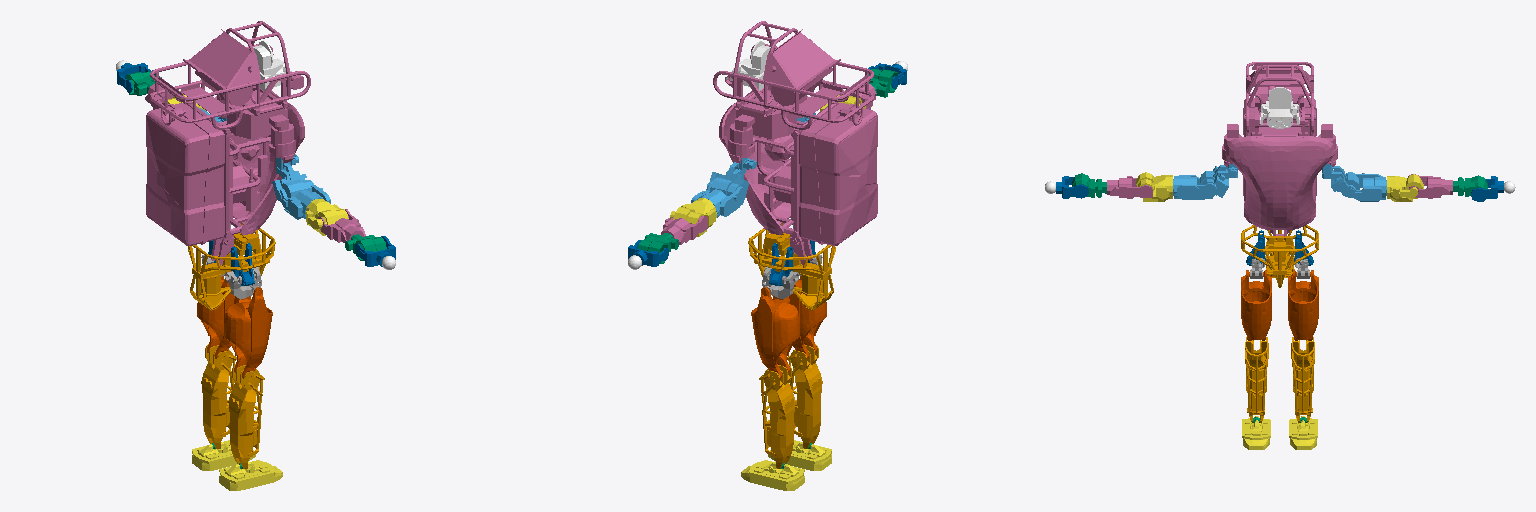
--- Render facts (derived) ---
3 views of the same robot in one strip: view 1: azimuth 30°, elevation 25°; view 2: azimuth 150°, elevation 25°; view 3: azimuth 270°, elevation 25° (orthographic).
Robot: multisense_sl — 31 links, 30 joints (30 revolute); root link pelvis; default pose: every joint at zero.
Links seen in each view (by area): view 1: utorso, pelvis, r_uleg, r_lleg, l_lleg, r_foot, l_uleg, r_scap, l_foot, r_uarm, r_clav, head (+4 smaller); view 2: utorso, pelvis, l_uleg, l_lleg, r_lleg, l_foot, r_uleg, r_foot, l_scap, l_clav, head, l_uarm (+4 smaller); view 3: utorso, pelvis, l_uleg, r_uleg, l_lleg, r_lleg, head, l_scap, r_scap, l_foot, r_foot, l_uarm (+5 smaller).
Boxes of the visible links, x1=… form: utorso: x1=146, y1=21, x2=310, y2=245; pelvis: x1=188, y1=223, x2=275, y2=310; r_uleg: x1=224, y1=287, x2=272, y2=378; r_lleg: x1=228, y1=364, x2=264, y2=468; l_lleg: x1=201, y1=344, x2=236, y2=448; r_foot: x1=219, y1=460, x2=282, y2=490; l_uleg: x1=197, y1=276, x2=234, y2=358; r_scap: x1=272, y1=180, x2=330, y2=219; l_foot: x1=192, y1=440, x2=255, y2=470; r_uarm: x1=305, y1=199, x2=348, y2=235; r_clav: x1=276, y1=154, x2=311, y2=197; head: x1=253, y1=40, x2=291, y2=90; utorso: x1=713, y1=21, x2=877, y2=245; pelvis: x1=748, y1=223, x2=835, y2=310; l_uleg: x1=751, y1=287, x2=799, y2=378; l_lleg: x1=759, y1=364, x2=795, y2=468; r_lleg: x1=787, y1=344, x2=822, y2=448; l_foot: x1=741, y1=460, x2=804, y2=490; r_uleg: x1=789, y1=276, x2=826, y2=358; r_foot: x1=768, y1=440, x2=831, y2=470; l_scap: x1=691, y1=172, x2=745, y2=217; l_clav: x1=710, y1=158, x2=756, y2=197; head: x1=726, y1=41, x2=770, y2=90; l_uarm: x1=670, y1=198, x2=716, y2=236; utorso: x1=1222, y1=62, x2=1337, y2=229; pelvis: x1=1241, y1=225, x2=1318, y2=287; l_uleg: x1=1288, y1=270, x2=1318, y2=340; r_uleg: x1=1241, y1=270, x2=1271, y2=340; l_lleg: x1=1291, y1=337, x2=1314, y2=422; r_lleg: x1=1245, y1=337, x2=1268, y2=422; head: x1=1260, y1=87, x2=1299, y2=128; l_scap: x1=1339, y1=172, x2=1386, y2=201; r_scap: x1=1173, y1=166, x2=1217, y2=199; l_foot: x1=1289, y1=416, x2=1317, y2=449; r_foot: x1=1242, y1=416, x2=1270, y2=449; l_uarm: x1=1387, y1=174, x2=1423, y2=201.
Bounding box of the posed robot: 0.6238 × 2.26 × 1.98 m (x, y, z).
29 mesh visuals loaded from 23 distinct referenced files (23 OBJ).

URDF robot description (multisense_sl):
<?xml version="1.0"?>
<robot name="multisense_sl">

<!-- head from multisense_sl_v4.urdf -->

  <link name="head">
    <inertial>
      <origin xyz="-0.075493 3.3383E-05 0.02774" rpy="0 0 0" />
      <mass value="1.41984" />
      <inertia iyy="0.0041178" ixy="-1.5797E-06" iyz="-6.8415E-07" ixx="0.0039688" ixz="-0.00089293" izz="0.0035243" />
    </inertial>
    <visual>
      <origin xyz="0 0 0" rpy="0 0 0" />
      <geometry>
        <mesh filename="multisense_sl_description/meshes/head.obj" />
      </geometry>
      <material name="">
        <color rgba="1 1 1 1" />
      </material>
    </visual>
  <collision>
    <origin xyz="-0.0503 0 -0.00195" rpy="0 0 0" />
    <geometry>
      <box size="0.1311 0.12 0.0591"/>
    </geometry>
  </collision>
  <collision>
    <origin xyz="-0.093 0 0.0868" rpy="0 0 0" />
    <geometry>
      <box size="0.0468 0.12 0.1184"/>
    </geometry>
  </collision>
  </link>



<!-- from atlas_v4_simple_shapes.urdf -->

  <link name="l_clav">
    <inertial>
      <mass value="4.466"/>
      <origin rpy="0 -0 0" xyz="0 -0.048 -0.084"/>
      <inertia ixx="0.011" ixy="0" ixz="0" iyy="0.009" iyz="0.004" izz="0.004"/>
    </inertial>
    <visual>
      <geometry>
        <mesh filename="meshes_unplugged/r_clav.obj" scale="1 1 1"/>
      </geometry>
    </visual>
    <collision>
      <origin rpy="0 1.5707963267949 0" xyz="0 -0.11 -0.248"/>
      <geometry>
        <cylinder length="0.1525" radius="0.0555"/>
      </geometry>
    </collision>
    <collision>
      <origin rpy="0 0 0" xyz="0.005 -0.015 -0.08"/>
      <geometry>
        <cylinder length="0.26" radius="0.067"/>
      </geometry>
    </collision>
    <collision>
      <origin rpy="1.05 0 0" xyz="0.004 -0.064 -0.247"/>
      <geometry>
        <box size="0.1 0.07 0.072"/>
      </geometry>
    </collision>
  </link>
  <link name="l_ufarm">
    <inertial>
      <mass value="4.386"/>
      <origin rpy="0 -0 0" xyz="0 0.065 0"/>
      <inertia ixx="0.00656" ixy="0" ixz="0" iyy="0.00358" iyz="0" izz="0.00656"/>
    </inertial>
    <visual>
      <geometry>
        <mesh filename="meshes_v3/r_farm.obj" scale="1 1 1"/>
      </geometry>
    </visual>
    <collision>
      <origin rpy="0 1.5708 0" xyz="0.0 -0.13 0.004"/>
      <geometry>
        <cylinder length="0.125" radius="0.045"/>
      </geometry>
    </collision>
    <collision>
      <origin rpy="0 0 0" xyz="0.001 -0.053 -0.002"/>
      <geometry>
        <box size="0.135 0.1 0.045"/>
      </geometry>
    </collision>
  </link>
  <link name="l_foot">
    <inertial>
      <mass value="2.41"/>
      <origin rpy="0 -0 0" xyz="0.027 0 -0.067"/>
      <inertia ixx="0.002" ixy="0" ixz="0" iyy="0.007" iyz="0" izz="0.008"/>
    </inertial>
    <visual>
      <geometry>
        <mesh filename="meshes_unplugged/l_foot.obj" scale="1 1 1"/>
      </geometry>
    </visual>
    <collision>
      <origin rpy="0 0 0" xyz="0.023 0 -0.049119"/>
      <geometry>
        <box size="0.227 0.133887 0.05"/>
      </geometry>
    </collision>
    <collision>
      <origin rpy="0 0 0" xyz="0.1225 0 -0.0641"/>
      <geometry>
        <box size="0.1 0.08 0.02"/>
      </geometry>
    </collision>
  </link>
  <link name="l_lfarm">
    <inertial>
      <mass value="2.509"/>
      <origin rpy="0 -0 0" xyz="0 0 0"/>
      <inertia ixx="0.00265" ixy="0" ixz="0" iyy="0.00446" iyz="0" izz="0.00446"/>
    </inertial>
    <visual>
      <geometry>
        <mesh filename="meshes_v3/r_hand.obj" scale="1 1 1"/>
      </geometry>
      <origin rpy="0 3.14159265359 0" xyz="0 0 0"/>
    </visual>
    <collision>
      <origin rpy="1.5707963267949 0 0" xyz="0.001 -0.1 -0.01"/>
      <geometry>
        <cylinder length="0.05" radius="0.03"/>
      </geometry>
    </collision>
    <collision>
      <origin rpy="0 0 0" xyz="0.001 -0.05 -0.01"/>
      <geometry>
        <box size="0.13 0.09 0.07"/>
      </geometry>
    </collision>
  </link>
  <link name="l_hand">
    <inertial>
      <mass value="1.0"/><!-- some mass required here for simulation stability -->
      <origin rpy="0 0 0" xyz="0 0 0"/>
      <inertia ixx="0.0001" ixy="0" ixz="0" iyy="0.0001" iyz="0" izz="0.0001"/>
    </inertial>
    <visual>
      <origin rpy="0 0 0" xyz="0 -0.15 0.01"/>
      <geometry>
        <sphere radius="0.03"/>
      </geometry>
      <material name="dark">
        <color rgba="1 1 1 1" />
      </material>
    </visual>
    <collision>
      <origin rpy="0 0 0" xyz="0 -0.15 0.01"/>
      <geometry>
        <sphere radius="0.03"/>
      </geometry>
    </collision>
  </link>
  <link name="l_larm">
    <inertial>
      <mass value="3.248"/>
      <origin rpy="0 -0 0" xyz="0 0 0"/>
      <inertia ixx="0.00265" ixy="0" ixz="0" iyy="0.00446" iyz="0" izz="0.00446"/>
    </inertial>
    <visual>
      <geometry>
        <mesh filename="meshes_v3/r_larm.obj" scale="1 1 1"/>
      </geometry>
    </visual>
    <collision>
      <origin rpy="1.5707963267949 0 0" xyz="0.001 -0.127 0.00"/>
      <geometry>
        <cylinder length="0.125" radius="0.045"/>
      </geometry>
    </collision>
    <collision>
      <origin rpy="0 0 0" xyz="0.001 -0.051 0.0"/>
      <geometry>
        <box size="0.135 0.15 0.06"/>
      </geometry>
    </collision>
  </link>
  <link name="l_lglut">
    <inertial>
      <mass value="0.898"/>
      <origin rpy="0 -0 0" xyz="0.0133341 0.0170484 -0.0312052"/>
      <inertia ixx="0.000691326" ixy="-2.24344e-05" ixz="2.50508e-06" iyy="0.00126856" iyz="0.000137862" izz="0.00106487"/>
    </inertial>
    <visual>
      <geometry>
        <mesh filename="meshes_unplugged/l_lglut.obj" scale="1 1 1"/>
      </geometry>
    </visual>
    <collision>
      <origin rpy="0 0 0" xyz="0.015 0.026 -0.028"/>
      <geometry>
        <box size="0.125 0.05 0.08"/>
      </geometry>
    </collision>
    <collision>
      <origin rpy="1.5707963267949 0 0" xyz="0.05 0.027488 -0.067"/>
      <geometry>
        <cylinder length="0.060306" radius="0.02009687"/>
      </geometry>
    </collision>
    <collision>
      <origin rpy="0 1.5707963267949 0" xyz="0.0115 0 0"/>
      <geometry>
        <cylinder length="0.144" radius="0.02"/>
      </geometry>
    </collision>
  </link>
  <link name="l_lleg">
    <inertial>
      <mass value="4.515"/>
      <origin rpy="0 -0 0" xyz="0.001 0 -0.187"/>
      <inertia ixx="0.077" ixy="0" ixz="-0.003" iyy="0.076" iyz="0" izz="0.01"/>
    </inertial>
    <visual>
      <geometry>
        <mesh filename="meshes_unplugged/l_lleg.obj" scale="1 1 1"/>
      </geometry>
    </visual>
    <collision>
      <origin rpy="0 0.10 0" xyz="0.02 0.00295 -0.182"/>
      <geometry>
        <cylinder length="0.40" radius="0.07"/>
      </geometry>
    </collision>
  </link>
  <link name="l_scap">
    <inertial>
      <mass value="3.899"/>
      <origin rpy="0 -0 0" xyz="0 0 0"/>
      <inertia ixx="0.00319" ixy="0" ixz="0" iyy="0.00583" iyz="0" izz="0.00583"/>
    </inertial>
    <visual>
      <geometry>
        <mesh filename="meshes_unplugged/r_scap.obj" scale="1 1 1"/>
      </geometry>
    </visual>
    <collision>
      <origin rpy="1.5707963267949 0 0" xyz="-0.005 -0.115 -0.014"/>
      <geometry>
        <cylinder length="0.105" radius="0.057"/>
      </geometry>
    </collision>
    <collision>
      <origin rpy="0 0 0" xyz="-0.005 -0.075 -0.015"/>
      <geometry>
        <box size="0.16 0.17 0.08"/>
      </geometry>
    </collision>
    <collision>
      <origin rpy="2.25 0 0" xyz="0.076 -0.0615 0.0128"/>
      <geometry>
        <box size="0.02 0.029 0.018"/>
      </geometry>
    </collision>
    <collision>
      <origin rpy="1 0 0" xyz="-0.075 0.015 0.019"/>
      <geometry>
        <box size="0.028 0.090 0.05"/>
      </geometry>
    </collision>
  </link>
  <link name="l_talus">
    <inertial>
      <mass value="0.125"/>
      <origin rpy="0 -0 0" xyz="0 0 0"/>
      <inertia ixx="1.01674e-05" ixy="0" ixz="0" iyy="8.42775e-06" iyz="0" izz="1.30101e-05"/>
    </inertial>
    <visual>
      <geometry>
        <mesh filename="meshes_unplugged/l_talus.obj" scale="1 1 1"/>
      </geometry>
    </visual>
    <collision>
      <origin rpy="0 1.5707963267949 0" xyz="0 0 0"/>
      <geometry>
        <cylinder length="0.029542" radius="0.010181"/>
      </geometry>
    </collision>
    <collision>
      <origin rpy="1.5707963267949 0 0" xyz="0 0 0"/>
      <geometry>
        <cylinder length="0.010059" radius="0.010348"/>
      </geometry>
    </collision>
  </link>
  <link name="l_uarm">
    <inertial>
      <mass value="4.386"/>
      <origin rpy="0 -0 0" xyz="0 0.065 0"/>
      <inertia ixx="0.00656" ixy="0" ixz="0" iyy="0.00358" iyz="0" izz="0.00656"/>
    </inertial>
    <visual>
      <geometry>
        <mesh filename="meshes_unplugged/r_uarm.obj" scale="1 1 1"/>
      </geometry>
    </visual>
    <collision>
      <origin rpy="1.5708 0 0" xyz="0.0 -0.035 0.00"/>
      <geometry>
        <cylinder length="0.11" radius="0.065"/>
      </geometry>
    </collision>
    <collision>
      <origin rpy="0 1.5708 0" xyz="-0.005 -0.111 0.017"/>
      <geometry>
        <cylinder length="0.142" radius="0.047"/>
      </geometry>
    </collision>
    <collision>
      <origin rpy="0 1.5707963267949 0" xyz="-0.001 -0.043 0.01"/>
      <geometry>
        <box size="0.05 0.07 0.15"/>
      </geometry>
    </collision>
  </link>
  <link name="l_uglut">
    <inertial>
      <mass value="1.959"/>
      <origin rpy="0 -0 0" xyz="0.00529262 -0.00344732 0.00313046"/>
      <inertia ixx="0.00074276" ixy="-3.79607e-08" ixz="-2.79549e-05" iyy="0.000688179" iyz="-3.2735e-08" izz="0.00041242"/>
    </inertial>
    <visual>
      <geometry>
        <mesh filename="meshes_unplugged/l_uglut.obj" scale="1 1 1"/>
      </geometry>
    </visual>
    <collision>
      <origin rpy="0.52539 0 0" xyz="0.01 0.005 0"/>
      <geometry>
        <box size="0.05 0.1 0.1"/>
      </geometry>
    </collision>
    <collision>
      <origin rpy="0 0 0" xyz="0 0 0"/>
      <geometry>
        <cylinder length="0.080842" radius="0.019841"/>
      </geometry>
    </collision>
  </link>
  <link name="l_uleg">
    <inertial>
      <mass value="8.204"/>
      <origin rpy="0 -0 0" xyz="0 0 -0.21"/>
      <inertia ixx="0.09" ixy="0" ixz="0" iyy="0.09" iyz="0" izz="0.02"/>
    </inertial>
    <visual>
      <geometry>
        <mesh filename="meshes_unplugged/l_uleg.obj" scale="1 1 1"/>
      </geometry>
    </visual>
    <collision>
      <origin rpy="0 0 0" xyz="-0.0199 0.00585 -0.122"/>
      <geometry>
        <cylinder length="0.15" radius="0.09"/>
      </geometry>
    </collision>
    <collision>
      <origin rpy="0 -0.3 0" xyz="-0.032 -0.005 -0.224"/>
      <geometry>
        <cylinder length="0.15" radius="0.07"/>
      </geometry>
    </collision>
    <!-- to cover the logo shield -->
    <collision>
      <origin rpy="-0.15 0.13 0" xyz="0.003 0.015 -0.254"/>
      <geometry>
        <cylinder length="0.15" radius="0.05"/>
      </geometry>
    </collision>
    <!-- inside strut -->
    <collision>
      <origin rpy="0.0 0.0 0" xyz="-0.007 -0.053 -0.052"/>
      <geometry>
        <box size="0.07 0.038 0.15"/>
      </geometry>
    </collision>
    <!-- outside strut -->
    <collision>
      <origin rpy="0.0 0.0 0" xyz="-0.017 0.0595 -0.049"/>
      <geometry>
        <box size="0.07 0.038 0.14"/>
      </geometry>
    </collision>
  </link>
  <link name="ltorso">
    <inertial>
      <mass value="2.270"/>
      <origin rpy="0 -0 0" xyz="-0.0112984 -3.15366e-06 0.0746835"/>
      <inertia ixx="0.0039092" ixy="-5.04491e-08" ixz="-0.000342157" iyy="0.00341694" iyz="4.87119e-07" izz="0.00174492"/>
    </inertial>
    <visual>
      <geometry>
        <mesh filename="meshes_unplugged/ltorso.obj" scale="1 1 1"/>
      </geometry>
    </visual>
    <!-- this produces unwanted self-collision -->
    <!--collision>
      <origin rpy="0 0 0" xyz="0 0 0"/>
      <geometry>
        <sphere radius="0.11"/>
      </geometry>
    </collision-->
  </link>
  <link name="mtorso">
    <inertial>
      <mass value="0.799"/>
      <origin rpy="0 -0 0" xyz="-0.00816266 -0.0131245 0.0305974"/>
      <inertia ixx="0.000454181" ixy="-6.10764e-05" ixz="3.94009e-05" iyy="0.000483282" iyz="5.27463e-05" izz="0.000444215"/>
    </inertial>
    <visual>
      <geometry>
        <mesh filename="meshes_unplugged/mtorso.obj" scale="1 1 1"/>
      </geometry>
    </visual>
    <collision>
      <origin rpy="0 0 0" xyz="0.0 0 0.02"/>
      <geometry>
        <cylinder length="0.15" radius="0.02"/>
      </geometry>
    </collision>
  </link>
  <link name="pelvis">
    <inertial>
      <mass value="9.509"/>
      <origin rpy="0 -0 0" xyz="0.0111 0 0.0271"/>
      <inertia ixx="0.1244" ixy="0.0008" ixz="-0.0007" iyy="0.0958" iyz="-0.0005" izz="0.1167"/>
    </inertial>
    <visual>
      <geometry>
        <mesh filename="meshes_unplugged/pelvis.obj" scale="1 1 1"/>
      </geometry>
    </visual>
    <collision>
      <origin rpy="1.5707963267949 0 0" xyz="0.046 0.0 0.01"/>
      <geometry>
        <cylinder length="0.06" radius="0.11"/>
      </geometry>
    </collision>
    <collision>
      <origin rpy="1.5707963267949 0 0" xyz="-0.03 0.0 0.01"/>
      <geometry>
        <cylinder length="0.06" radius="0.11"/>
      </geometry>
    </collision>
    <collision>
      <origin rpy="0 0 0" xyz="0.01 0.042 0.09"/>
      <geometry>
        <cylinder length="0.05" radius="0.16"/>
      </geometry>
    </collision>
    <collision>
      <origin rpy="0 0 0" xyz="0.01 -0.042 0.09"/>
      <geometry>
        <cylinder length="0.05" radius="0.16"/>
      </geometry>
    </collision>
    <collision>
      <origin rpy="0 0 0" xyz="-0.1 0 -0.02"/>
      <geometry>
        <box size="0.1 0.15 0.2"/>
      </geometry>
    </collision>
  </link>
  <link name="r_clav">
    <inertial>
      <mass value="4.466"/>
      <origin rpy="0 -0 0" xyz="0 -0.048 -0.084"/>
      <inertia ixx="0.011" ixy="0" ixz="0" iyy="0.009" iyz="0.004" izz="0.004"/>
    </inertial>
    <visual>
      <geometry>
        <mesh filename="meshes_unplugged/r_clav.obj" scale="1 1 1"/>
      </geometry>
    </visual>
    <collision>
      <origin rpy="0 1.5707963267949 0" xyz="0 -0.11 -0.248"/>
      <geometry>
        <cylinder length="0.1525" radius="0.0555"/>
      </geometry>
    </collision>
    <collision>
      <origin rpy="0 0 0" xyz="0.005 -0.015 -0.08"/>
      <geometry>
        <cylinder length="0.26" radius="0.067"/>
      </geometry>
    </collision>
    <collision>
      <origin rpy="1.05 0 0" xyz="0.004 -0.064 -0.247"/>
      <geometry>
        <box size="0.1 0.07 0.072"/>
      </geometry>
    </collision>
  </link>
  <link name="r_ufarm">
    <inertial>
      <mass value="4.386"/>
      <origin rpy="0 -0 0" xyz="0 0.065 0"/>
      <inertia ixx="0.00656" ixy="0" ixz="0" iyy="0.00358" iyz="0" izz="0.00656"/>
    </inertial>
    <visual>
      <geometry>
        <mesh filename="meshes_v3/r_farm.obj" scale="1 1 1"/>
      </geometry>
    </visual>
    <collision>
      <origin rpy="0 1.5708 0" xyz="0.0 -0.13 0.004"/>
      <geometry>
        <cylinder length="0.125" radius="0.045"/>
      </geometry>
    </collision>
    <collision>
      <origin rpy="0 0 0" xyz="0.001 -0.053 -0.002"/>
      <geometry>
        <box size="0.135 0.1 0.045"/>
      </geometry>
    </collision>
  </link>
  <link name="r_foot">
    <inertial>
      <mass value="2.41"/>
      <origin rpy="0 -0 0" xyz="0.027 0 -0.067"/>
      <inertia ixx="0.002" ixy="0" ixz="0" iyy="0.007" iyz="0" izz="0.008"/>
    </inertial>
    <visual>
      <geometry>
        <mesh filename="meshes_unplugged/r_foot.obj" scale="1 1 1"/>
      </geometry>
    </visual>
    <collision>
      <origin rpy="0 0 0" xyz="0.023 0 -0.049119"/>
      <geometry>
        <box size="0.227 0.133887 0.05"/>
      </geometry>
    </collision>
    <collision>
      <origin rpy="0 0 0" xyz="0.1225 0 -0.0641"/>
      <geometry>
        <box size="0.1 0.08 0.02"/>
      </geometry>
    </collision>
  </link>
  <link name="r_lfarm">
    <inertial>
      <mass value="2.509"/>
      <origin rpy="0 -0 0" xyz="0 0 0"/>
      <inertia ixx="0.00265" ixy="0" ixz="0" iyy="0.00446" iyz="0" izz="0.00446"/>
    </inertial>
    <visual>
      <geometry>
        <mesh filename="meshes_v3/r_hand.obj" scale="1 1 1"/>
      </geometry>
      <origin rpy="0 3.14159265359 0" xyz="0 0 0"/>
    </visual>
    <collision>
      <origin rpy="1.5707963267949 0 0" xyz="0.001 -0.1 -0.01"/>
      <geometry>
        <cylinder length="0.05" radius="0.03"/>
      </geometry>
    </collision>
    <collision>
      <origin rpy="0 0 0" xyz="0.001 -0.05 -0.01"/>
      <geometry>
        <box size="0.13 0.09 0.07"/>
      </geometry>
    </collision>
  </link>
  <link name="r_hand">
    <inertial>
      <mass value="1.0"/><!-- some mass required here for simulation stability -->
      <origin rpy="0 0 0" xyz="0 0 0"/>
      <inertia ixx="0.0001" ixy="0" ixz="0" iyy="0.0001" iyz="0" izz="0.0001"/>
    </inertial>
    <visual>
      <origin rpy="0 0 0" xyz="0 -0.15 -0.01"/>
      <geometry>
        <sphere radius="0.03"/>
      </geometry>
      <material name="dark">
        <color rgba="1 1 1 1" />
      </material>
    </visual>
    <collision>
      <origin rpy="0 0 0" xyz="0 -0.15 -0.01"/>
      <geometry>
        <sphere radius="0.03"/>
      </geometry>
    </collision>
  </link>
  <link name="r_larm">
    <inertial>
      <mass value="3.248"/>
      <origin rpy="0 -0 0" xyz="0 0 0"/>
      <inertia ixx="0.00265" ixy="0" ixz="0" iyy="0.00446" iyz="0" izz="0.00446"/>
    </inertial>
    <visual>
      <geometry>
        <mesh filename="meshes_v3/r_larm.obj" scale="1 1 1"/>
      </geometry>
    </visual>
    <collision>
      <origin rpy="1.5707963267949 0 0" xyz="0.001 -0.127 0.00"/>
      <geometry>
        <cylinder length="0.125" radius="0.045"/>
      </geometry>
    </collision>
    <collision>
      <origin rpy="0 0 0" xyz="0.001 -0.051 0.0"/>
      <geometry>
        <box size="0.135 0.15 0.06"/>
      </geometry>
    </collision>
  </link>
  <link name="r_lglut">
    <inertial>
      <mass value="0.898"/>
      <origin rpy="0 -0 0" xyz="0.0133341 -0.0170484 -0.0312052"/>
      <inertia ixx="0.000691326" ixy="2.24344e-05" ixz="2.50508e-06" iyy="0.00126856" iyz="-0.000137862" izz="0.00106487"/>
    </inertial>
    <collision>
      <origin rpy="0 0 0" xyz="0.015 -0.026 -0.028"/>
      <geometry>
        <box size="0.125 0.05 0.08"/>
      </geometry>
    </collision>
    <visual>
      <geometry>
        <mesh filename="meshes_unplugged/r_lglut.obj" scale="1 1 1"/>
      </geometry>
    </visual>
    <collision>
      <origin rpy="1.5707963267949 0 0" xyz="0.05 -0.027488 -0.067"/>
      <geometry>
        <cylinder length="0.060306" radius="0.02009687"/>
      </geometry>
    </collision>
    <collision>
      <origin rpy="0 1.5707963267949 0" xyz="0.0105 0 0"/>
      <geometry>
        <cylinder length="0.142" radius="0.02"/>
      </geometry>
    </collision>
  </link>
  <link name="r_lleg">
    <inertial>
      <mass value="4.515"/>
      <origin rpy="0 -0 0" xyz="0.001 0 -0.187"/>
      <inertia ixx="0.077" ixy="-0" ixz="-0.003" iyy="0.076" iyz="-0" izz="0.01"/>
    </inertial>
    <visual>
      <geometry>
        <mesh filename="meshes_unplugged/r_lleg.obj" scale="1 1 1"/>
      </geometry>
    </visual>
    <collision>
      <origin rpy="0 0.10 0" xyz="0.02 -0.00295 -0.182"/>
      <geometry>
        <cylinder length="0.40" radius="0.07"/>
      </geometry>
    </collision>
  </link>
  <link name="r_scap">
    <inertial>
      <mass value="3.899"/>
      <origin rpy="0 -0 0" xyz="0 0 0"/>
      <inertia ixx="0.00319" ixy="0" ixz="0" iyy="0.00583" iyz="0" izz="0.00583"/>
    </inertial>
    <visual>
      <geometry>
        <mesh filename="meshes_unplugged/r_scap.obj" scale="1 1 1"/>
      </geometry>
    </visual>
    <collision>
      <origin rpy="1.5707963267949 0 0" xyz="-0.005 -0.115 -0.014"/>
      <geometry>
        <cylinder length="0.105" radius="0.057"/>
      </geometry>
    </collision>
    <collision>
      <origin rpy="0 0 0" xyz="-0.005 -0.075 -0.015"/>
      <geometry>
        <box size="0.16 0.17 0.08"/>
      </geometry>
    </collision>
    <collision>
      <origin rpy="2.25 0 0" xyz="0.076 -0.0615 0.0128"/>
      <geometry>
        <box size="0.02 0.029 0.018"/>
      </geometry>
    </collision>
    <collision>
      <origin rpy="1 0 0" xyz="-0.075 0.015 0.019"/>
      <geometry>
        <box size="0.028 0.090 0.05"/>
      </geometry>
    </collision>
  </link>
  <link name="r_talus">
    <inertial>
      <mass value="0.125"/>
      <origin rpy="0 -0 0" xyz="0 0 0"/>
      <inertia ixx="1.01674e-05" ixy="0" ixz="0" iyy="8.42775e-06" iyz="0" izz="1.30101e-05"/>
    </inertial>
    <visual>
      <geometry>
        <mesh filename="meshes_unplugged/r_talus.obj" scale="1 1 1"/>
      </geometry>
    </visual>
    <collision>
      <origin rpy="0 1.5707963267949 0" xyz="0 0 0"/>
      <geometry>
        <cylinder length="0.029542" radius="0.010181"/>
      </geometry>
    </collision>
    <collision>
      <origin rpy="1.5707963267949 0 0" xyz="0 0 0"/>
      <geometry>
        <cylinder length="0.010059" radius="0.010348"/>
      </geometry>
    </collision>
  </link>
  <link name="r_uarm">
    <inertial>
      <mass value="4.386"/>
      <origin rpy="0 -0 0" xyz="0 0.065 0"/>
      <inertia ixx="0.00656" ixy="0" ixz="0" iyy="0.00358" iyz="0" izz="0.00656"/>
    </inertial>
    <visual>
      <geometry>
        <mesh filename="meshes_unplugged/r_uarm.obj" scale="1 1 1"/>
      </geometry>
    </visual>
    <collision>
      <origin rpy="1.5708 0 0" xyz="0.0 -0.035 0.00"/>
      <geometry>
        <cylinder length="0.11" radius="0.065"/>
      </geometry>
    </collision>
    <collision>
      <origin rpy="0 1.5708 0" xyz="-0.005 -0.111 0.017"/>
      <geometry>
        <cylinder length="0.142" radius="0.047"/>
      </geometry>
    </collision>
    <collision>
      <origin rpy="0 1.5707963267949 0" xyz="-0.001 -0.043 0.01"/>
      <geometry>
        <box size="0.05 0.07 0.15"/>
      </geometry>
    </collision>
  </link>
  <link name="r_uglut">
    <inertial>
      <mass value="1.959"/>
      <origin rpy="0 -0 0" xyz="0.00529262 0.00344732 0.00313046"/>
      <inertia ixx="0.00074276" ixy="3.79607e-08" ixz="-2.79549e-05" iyy="0.000688179" iyz="3.2735e-08" izz="0.00041242"/>
    </inertial>
    <visual>
      <geometry>
        <mesh filename="meshes_unplugged/r_uglut.obj" scale="1 1 1"/>
      </geometry>
    </visual>
    <collision>
      <origin rpy="-0.52539 0 0" xyz="0.01 -0.005 0"/>
      <geometry>
        <box size="0.05 0.1 0.1"/>
      </geometry>
    </collision>
    <collision>
      <origin rpy="0 0 0" xyz="0 0 0"/>
      <geometry>
        <cylinder length="0.080842" radius="0.019841"/>
      </geometry>
    </collision>
  </link>
  <link name="r_uleg">
    <inertial>
      <mass value="8.204"/>
      <origin rpy="0 -0 0" xyz="0 0 -0.21"/>
      <inertia ixx="0.09" ixy="0" ixz="0" iyy="0.09" iyz="0" izz="0.02"/>
    </inertial>
    <visual>
      <geometry>
        <mesh filename="meshes_unplugged/r_uleg.obj" scale="1 1 1"/>
      </geometry>
    </visual>
    <collision>
      <origin rpy="0 0 0" xyz="-0.0199 -0.00585 -0.122"/>
      <geometry>
        <cylinder length="0.15" radius="0.09"/>
      </geometry>
    </collision>
    <collision>
      <origin rpy="0 -0.3 0" xyz="-0.032 0.005 -0.224"/>
      <geometry>
        <cylinder length="0.15" radius="0.07"/>
      </geometry>
    </collision>
    <!-- to cover the logo shield -->
    <collision>
      <origin rpy="0.15 0.13 0" xyz="0.003 -0.015 -0.254"/>
      <geometry>
        <cylinder length="0.15" radius="0.05"/>
      </geometry>
    </collision>
    <!-- inside strut -->
    <collision>
      <origin rpy="0.0 0.0 0" xyz="-0.007 0.053 -0.052"/>
      <geometry>
        <box size="0.07 0.038 0.15"/>
      </geometry>
    </collision>
    <!-- outside strut -->
    <collision>
      <origin rpy="0.0 0.0 0" xyz="-0.017 -0.0595 -0.049"/>
      <geometry>
        <box size="0.07 0.038 0.14"/>
      </geometry>
    </collision>
  </link>
  <!-- with backpack -->
  <link name="utorso">
    <inertial>
      <mass value="84.409"/>
      <origin rpy="0 -0 0" xyz="-0.0622 0.0023 0.3157"/>
      <inertia ixx="1.577" ixy="-0.032" ixz="0.102" iyy="1.602" iyz="0.047" izz="0.565"/>
    </inertial>
    <visual>
      <geometry>
        <mesh filename="meshes_unplugged/utorso.obj" scale="1 1 1"/>
      </geometry>
    </visual>
    <collision>
      <origin rpy="0 0 0" xyz="-0.102 0 0.25"/>
      <geometry>
        <box size="0.4 0.35 0.5"/>
      </geometry>
    </collision>
    <collision>
      <origin rpy="0 1.5707 0" xyz="0.2 0 0.46"/>
      <geometry>
        <box size="0.13 0.50 0.10"/>
      </geometry>
    </collision>
    <collision>
      <origin rpy="0 1.7 0" xyz="0.2 0 0.285"/>
      <geometry>
        <box size="0.2 0.23 0.10"/>
      </geometry>
    </collision>
    <collision>
      <origin rpy="0 2.0 0" xyz="0.15 0 0.10"/>
      <geometry>
        <box size="0.2 0.18 0.10"/>
      </geometry>
    </collision>
    <collision>
      <origin rpy="0 0 0" xyz="-0.035 0 0.6265"/>
      <geometry>
        <box size="0.506306 0.341719 0.12"/>
      </geometry>
    </collision>
    <collision>
      <origin rpy="1.5707 0 0" xyz="0.208 0 0.8215"/>
      <geometry>
        <cylinder length="0.13" radius="0.008"/>
      </geometry>
    </collision>
    <collision>
      <origin rpy="-0.38535 0 0" xyz="0.208 -0.125 0.745"/>
      <geometry>
        <cylinder length="0.15" radius="0.008"/>
      </geometry>
    </collision>
    <collision>
      <origin rpy="0.38535 0 0" xyz="0.208 0.125 0.745"/>
      <geometry>
        <cylinder length="0.15" radius="0.008"/>
      </geometry>
    </collision>
    <collision>
      <origin rpy="-0.38535 0 0" xyz="0.063 -0.125 0.745"/>
      <geometry>
        <cylinder length="0.15" radius="0.008"/>
      </geometry>
    </collision>
    <collision>
      <origin rpy="0.38535 0 0" xyz="0.063 0.125 0.745"/>
      <geometry>
        <cylinder length="0.15" radius="0.008"/>
      </geometry>
    </collision>
    <collision>
      <origin rpy="1.5707 0 1.5707" xyz="0.14 0.06 0.8215"/>
      <geometry>
        <cylinder length="0.15" radius="0.008"/>
      </geometry>
    </collision>
    <collision>
      <origin rpy="1.5707 0 1.5707" xyz="0.14 -0.06 0.8215"/>
      <geometry>
        <cylinder length="0.15" radius="0.008"/>
      </geometry>
    </collision>
    <collision>
      <origin rpy="0 -0.65 0" xyz="-0.029 0 0.731"/>
      <geometry>
        <box size="0.2 0.25 0.01"/>
      </geometry>
    </collision>
    <collision>
      <origin rpy="1.5707 0 0" xyz="0.063 0 0.8215"/>
      <geometry>
        <cylinder length="0.13" radius="0.008"/>
      </geometry>
    </collision>
    <collision>
      <origin rpy="1.5707 0 0" xyz="0.261 0.156 0.6215"/>
      <geometry>
        <cylinder length="0.016" radius="0.055"/>
      </geometry>
    </collision>
    <collision>
      <origin rpy="1.5707 0 0" xyz="0.261 -0.156 0.6215"/>
      <geometry>
        <cylinder length="0.016" radius="0.055"/>
      </geometry>
    </collision>
  </link>
  <joint name="back_bkx" type="revolute">
    <origin rpy="0 -0 0" xyz="0 0 0.05"/>
    <axis xyz="1 0 0"/>
    <parent link="mtorso"/>
    <child link="utorso"/>
    <dynamics damping="0.1" friction="0"/>
    <limit effort="300" lower="-0.523599" upper="0.523599" velocity="12"/>
    <safety_controller k_position="100" k_velocity="100" soft_lower_limit="-10.5236" soft_upper_limit="10.5236"/>
  </joint>
  <joint name="back_bky" type="revolute">
    <origin rpy="0 -0 0" xyz="0 0 0.162"/>
    <axis xyz="0 1 0"/>
    <parent link="ltorso"/>
    <child link="mtorso"/>
    <dynamics damping="0.1" friction="0"/>
    <limit effort="445" lower="-0.219388" upper="0.538783" velocity="9"/>
    <safety_controller k_position="100" k_velocity="100" soft_lower_limit="-10.2194" soft_upper_limit="10.5388"/>
  </joint>
  <joint name="back_bkz" type="revolute">
    <origin rpy="0 -0 0" xyz="-0.0125 0 0"/>
    <axis xyz="0 0 1"/>
    <parent link="pelvis"/>
    <child link="ltorso"/>
    <dynamics damping="0.1" friction="0"/>
    <limit effort="106" lower="-0.663225" upper="0.663225" velocity="12"/>
    <safety_controller k_position="100" k_velocity="100" soft_lower_limit="-10.6632" soft_upper_limit="10.6632"/>
  </joint>
  <joint name="l_arm_elx" type="revolute">
    <origin rpy="0 -0 0" xyz="0 -0.119 0.0092"/>
    <axis xyz="-1.0 -0.0 -0.0"/>
    <parent link="l_uarm"/>
    <child link="l_larm"/>
    <dynamics damping="0.2" friction="0"/>
    <limit effort="112" lower="0" upper="2.35619" velocity="12"/>
    <safety_controller k_position="100" k_velocity="100" soft_lower_limit="-10" soft_upper_limit="12.3562"/>
  </joint>
  <joint name="l_arm_ely" type="revolute">
    <origin rpy="0 -0 0" xyz="0 -0.187 -0.016"/>
    <axis xyz="-0.0 -1.0 -0.0"/>
    <parent link="l_scap"/>
    <child link="l_uarm"/>
    <dynamics damping="0.2" friction="0"/>
    <limit effort="63" lower="0" upper="3.14159" velocity="12"/>
    <safety_controller k_position="100" k_velocity="100" soft_lower_limit="-10" soft_upper_limit="13.1416"/>
  </joint>
  <joint name="l_arm_shx" type="revolute">
    <origin rpy="0 -0 0" xyz="0 -0.11 -0.245"/>
    <axis xyz="-1.0 -0.0 -0.0"/>
    <parent link="l_clav"/>
    <child link="l_scap"/>
    <dynamics damping="0.1" friction="0"/>
    <limit effort="99" lower="-1.5708" upper="1.5708" velocity="12"/>
    <safety_controller k_position="100" k_velocity="100" soft_lower_limit="-11.5708" soft_upper_limit="11.5708"/>
  </joint>
  <joint name="l_arm_shz" type="revolute">
    <origin rpy="0 0 3.14159265359" xyz="0.1406 0.2256 0.4776"/>
    <axis xyz="0 0 1"/>
    <parent link="utorso"/>
    <child link="l_clav"/>
    <dynamics damping="0.1" friction="0"/>
    <limit effort="87" lower="-1.5708" upper="0.785398" velocity="12"/>
    <safety_controller k_position="100" k_velocity="100" soft_lower_limit="-11.5708" soft_upper_limit="10.7854"/>
    <!-- note, this is opposite of v1 and v3 -->
  </joint>
  <joint name="l_arm_wrx" type="revolute">
    <origin rpy="0 -0 0" xyz="0 -0.119 0.0092"/>
    <axis xyz="1 0 0"/>
    <parent link="l_ufarm"/>
    <child link="l_lfarm"/>
    <dynamics damping="0.1" friction="0"/>
    <limit effort="25" lower="-1.1781" upper="1.1781" velocity="12"/>
    <safety_controller k_position="100" k_velocity="100" soft_lower_limit="-11.1781" soft_upper_limit="11.1781"/>
  </joint>
  <joint name="l_arm_wry" type="revolute">
    <origin rpy="0 3.14159265359 0" xyz="0 -0.187 -0.0092"/>
    <axis xyz="-0.0 -1.0 -0.0"/>
    <parent link="l_larm"/>
    <child link="l_ufarm"/>
    <dynamics damping="0.1" friction="0"/>
    <limit effort="25" lower="0" upper="3.14159" velocity="12"/>
    <safety_controller k_position="100" k_velocity="100" soft_lower_limit="-10" soft_upper_limit="13.1416"/>
  </joint>
  <joint name="l_arm_wry2" type="revolute">
    <origin rpy="0 3.14159265359 0" xyz="0 0 0"/>
    <axis xyz="0 1 0"/>
    <parent link="l_lfarm"/>
    <child link="l_hand"/>
    <dynamics damping="0.1" friction="0"/>
    <limit effort="5" lower="-0.001" upper="0.001" velocity="1"/>
    <safety_controller k_position="1" k_velocity="0.01" soft_lower_limit="0" soft_upper_limit="0.1"/>
  </joint>
  <joint name="l_leg_akx" type="revolute">
    <origin rpy="0 -0 0" xyz="0 0 0"/>
    <axis xyz="1 0 0"/>
    <parent link="l_talus"/>
    <child link="l_foot"/>
    <dynamics damping="0.1" friction="0"/>
    <!--limit effort="360" lower="-0.8" upper="0.8" velocity="12"/-->
    <limit effort="45" lower="-0.8" upper="0.8" velocity="12"/>
    <safety_controller k_position="100" k_velocity="100" soft_lower_limit="-10.8" soft_upper_limit="10.8"/>
  </joint>
  <joint name="l_leg_aky" type="revolute">
    <origin rpy="0 -0 0" xyz="0 0 -0.422"/>
    <axis xyz="0 1 0"/>
    <parent link="l_lleg"/>
    <child link="l_talus"/>
    <dynamics damping="0.1" friction="0"/>
    <!--limit effort="740" lower="-1" upper="0.7" velocity="12"/-->
    <limit effort="92" lower="-1" upper="0.7" velocity="12"/>
    <safety_controller k_position="100" k_velocity="100" soft_lower_limit="-11" soft_upper_limit="10.7"/>
  </joint>
  <joint name="l_leg_hpx" type="revolute">
    <origin rpy="0 -0 0" xyz="0 0 0"/>
    <axis xyz="1 0 0"/>
    <parent link="l_uglut"/>
    <child link="l_lglut"/>
    <dynamics damping="0.1" friction="0"/>
    <limit effort="530" lower="-0.523599" upper="0.523599" velocity="12"/>
    <safety_controller k_position="100" k_velocity="100" soft_lower_limit="-10.5236" soft_upper_limit="10.5236"/>
  </joint>
  <joint name="l_leg_hpy" type="revolute">
    <origin rpy="0 -0 0" xyz="0.05 0.0225 -0.066"/>
    <axis xyz="0 1 0"/>
    <parent link="l_lglut"/>
    <child link="l_uleg"/>
    <dynamics damping="0.1" friction="0"/>
    <limit effort="840" lower="-1.61234" upper="0.65764" velocity="12"/>
    <safety_controller k_position="100" k_velocity="100" soft_lower_limit="-11.6123" soft_upper_limit="10.6576"/>
  </joint>
  <joint name="l_leg_hpz" type="revolute">
    <origin rpy="0 -0 0" xyz="0 0.089 0"/>
    <axis xyz="0 0 1"/>
    <parent link="pelvis"/>
    <child link="l_uglut"/>
    <dynamics damping="0.1" friction="0"/>
    <limit effort="275" lower="-0.174358" upper="0.786794" velocity="12"/>
    <safety_controller k_position="100" k_velocity="100" soft_lower_limit="-10.1744" soft_upper_limit="10.7868"/>
  </joint>
  <joint name="l_leg_kny" type="revolute">
    <origin rpy="0 -0 0" xyz="-0.05 0 -0.374"/>
    <axis xyz="0 1 0"/>
    <parent link="l_uleg"/>
    <child link="l_lleg"/>
    <dynamics damping="0.2" friction="0"/>
    <limit effort="890" lower="0" upper="2.35637" velocity="12"/>
    <safety_controller k_position="100" k_velocity="100" soft_lower_limit="-10" soft_upper_limit="12.3564"/>
  </joint>
  <joint name="neck_ry" type="revolute">
    <origin rpy="0 -0 0" xyz="0.2546 0 0.6215"/>
    <axis xyz="0 1 0"/>
    <parent link="utorso"/>
    <child link="head"/>
    <dynamics damping="0.1" friction="0"/>
    <limit effort="5" lower="-0.602139" upper="1.14319" velocity="6.28"/>
    <safety_controller k_position="100" k_velocity="100" soft_lower_limit="-10.6021" soft_upper_limit="11.1432"/>
  </joint>
  <joint name="r_arm_elx" type="revolute">
    <origin rpy="0 -0 0" xyz="0 -0.119 0.0092"/>
    <axis xyz="1 0 0"/>
    <parent link="r_uarm"/>
    <child link="r_larm"/>
    <dynamics damping="0.2" friction="0"/>
    <limit effort="112" lower="-2.35619" upper="0" velocity="12"/>
    <safety_controller k_position="100" k_velocity="100" soft_lower_limit="-12.3562" soft_upper_limit="10"/>
  </joint>
  <joint name="r_arm_ely" type="revolute">
    <origin rpy="0 -0 0" xyz="0 -0.187 -0.016"/>
    <axis xyz="0 1 0"/>
    <parent link="r_scap"/>
    <child link="r_uarm"/>
    <dynamics damping="0.2" friction="0"/>
    <limit effort="63" lower="0" upper="3.14159" velocity="12"/>
    <safety_controller k_position="100" k_velocity="100" soft_lower_limit="-10" soft_upper_limit="13.1416"/>
  </joint>
  <joint name="r_arm_shx" type="revolute">
    <origin rpy="0 -0 0" xyz="0 -0.11 -0.245"/>
    <axis xyz="1 0 0"/>
    <parent link="r_clav"/>
    <child link="r_scap"/>
    <dynamics damping="0.1" friction="0"/>
    <limit effort="99" lower="-1.5708" upper="1.5708" velocity="12"/>
    <safety_controller k_position="100" k_velocity="100" soft_lower_limit="-11.5708" soft_upper_limit="11.5708"/>
  </joint>
  <joint name="r_arm_shz" type="revolute">
    <origin rpy="0 -0 0" xyz="0.1406 -0.2256 0.4776"/>
    <axis xyz="0 0 1"/>
    <!-- note, this is opposite of v1 and v3 -->
    <parent link="utorso"/>
    <child link="r_clav"/>
    <dynamics damping="0.1" friction="0"/>
    <limit effort="87" lower="-0.785398" upper="1.5708" velocity="12"/>
    <safety_controller k_position="100" k_velocity="100" soft_lower_limit="-10.7854" soft_upper_limit="11.5708"/>
  </joint>
  <joint name="r_arm_wrx" type="revolute">
    <origin rpy="0 -0 0" xyz="0 -0.119 0.0092"/>
    <axis xyz="1 0 0"/>
    <parent link="r_ufarm"/>
    <child link="r_lfarm"/>
    <dynamics damping="0.1" friction="0"/>
    <limit effort="25" lower="-1.1781" upper="1.1781" velocity="12"/>
    <safety_controller k_position="100" k_velocity="100" soft_lower_limit="-11.1781" soft_upper_limit="11.1781"/>
  </joint>
  <joint name="r_arm_wry" type="revolute">
    <origin rpy="0 -0 0" xyz="0 -0.187 -0.0092"/>
    <axis xyz="0 1 0"/>
    <parent link="r_larm"/>
    <child link="r_ufarm"/>
    <dynamics damping="0.1" friction="0"/>
    <limit effort="25" lower="0" upper="3.14159" velocity="12"/>
    <safety_controller k_position="100" k_velocity="100" soft_lower_limit="-10" soft_upper_limit="13.1416"/>
  </joint>
  <joint name="r_arm_wry2" type="revolute">
    <origin rpy="0 0 0" xyz="0 0 0"/>
    <axis xyz="0 1 0"/>
    <parent link="r_lfarm"/>
    <child link="r_hand"/>
    <dynamics damping="0.1" friction="0"/>
    <limit effort="5" lower="-0.001" upper="0.001" velocity="1"/>
    <safety_controller k_position="1" k_velocity="0.01" soft_lower_limit="0" soft_upper_limit="0.1"/>
  </joint>
  <joint name="r_leg_akx" type="revolute">
    <origin rpy="0 -0 0" xyz="0 0 0"/>
    <axis xyz="1 0 0"/>
    <parent link="r_talus"/>
    <child link="r_foot"/>
    <dynamics damping="0.1" friction="0"/>
    <!--limit effort="360" lower="-0.8" upper="0.8" velocity="12"/-->
    <limit effort="45" lower="-0.8" upper="0.8" velocity="12"/>
    <safety_controller k_position="100" k_velocity="100" soft_lower_limit="-10.8" soft_upper_limit="10.8"/>
  </joint>
  <joint name="r_leg_aky" type="revolute">
    <origin rpy="0 -0 0" xyz="0 0 -0.422"/>
    <axis xyz="0 1 0"/>
    <parent link="r_lleg"/>
    <child link="r_talus"/>
    <dynamics damping="0.1" friction="0"/>
    <!--limit effort="740" lower="-1" upper="0.7" velocity="12"/-->
    <limit effort="92" lower="-1" upper="0.7" velocity="12"/>
    <safety_controller k_position="100" k_velocity="100" soft_lower_limit="-11" soft_upper_limit="10.7"/>
  </joint>
  <joint name="r_leg_hpx" type="revolute">
    <origin rpy="0 -0 0" xyz="0 0 0"/>
    <axis xyz="1 0 0"/>
    <parent link="r_uglut"/>
    <child link="r_lglut"/>
    <dynamics damping="0.1" friction="0"/>
    <limit effort="530" lower="-0.523599" upper="0.523599" velocity="12"/>
    <safety_controller k_position="100" k_velocity="100" soft_lower_limit="-10.5236" soft_upper_limit="10.5236"/>
  </joint>
  <joint name="r_leg_hpy" type="revolute">
    <origin rpy="0 -0 0" xyz="0.05 -0.0225 -0.066"/>
    <axis xyz="0 1 0"/>
    <parent link="r_lglut"/>
    <child link="r_uleg"/>
    <dynamics damping="0.1" friction="0"/>
    <limit effort="840" lower="-1.61234" upper="0.65764" velocity="12"/>
    <safety_controller k_position="100" k_velocity="100" soft_lower_limit="-11.6123" soft_upper_limit="10.6576"/>
  </joint>
  <joint name="r_leg_hpz" type="revolute">
    <origin rpy="0 -0 0" xyz="0 -0.089 0"/>
    <axis xyz="0 0 1"/>
    <parent link="pelvis"/>
    <child link="r_uglut"/>
    <dynamics damping="0.1" friction="0"/>
    <limit effort="275" lower="-0.786794" upper="0.174358" velocity="12"/>
    <safety_controller k_position="100" k_velocity="100" soft_lower_limit="-10.7868" soft_upper_limit="10.1744"/>
  </joint>
  <joint name="r_leg_kny" type="revolute">
    <origin rpy="0 -0 0" xyz="-0.05 0 -0.374"/>
    <axis xyz="0 1 0"/>
    <parent link="r_uleg"/>
    <child link="r_lleg"/>
    <dynamics damping="0.2" friction="0"/>
    <limit effort="890" lower="0" upper="2.35637" velocity="12"/>
    <safety_controller k_position="100" k_velocity="100" soft_lower_limit="-10" soft_upper_limit="12.3564"/>
  </joint>
</robot>
